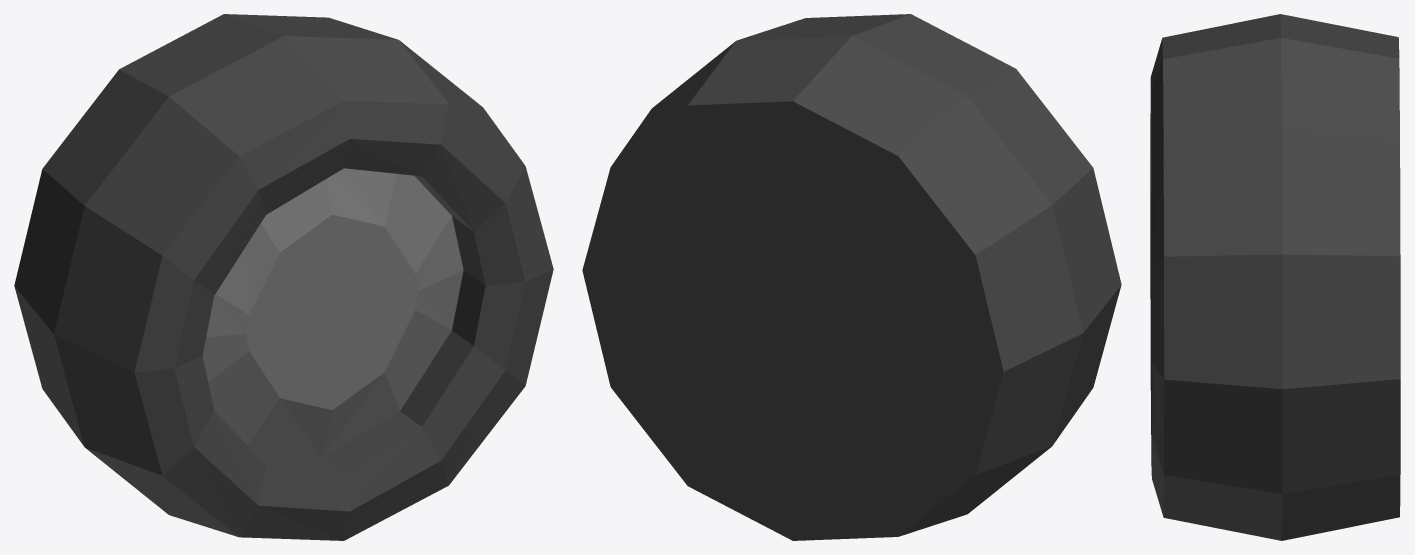
The model's file is car_Wheel.fbx.
The picture shows the model from 3 angles, left to right: view 1: azimuth 30°, elevation 25°; view 2: azimuth 150°, elevation 25°; view 3: azimuth 270°, elevation 25°; orthographic projection.
Parts seen in each view (by area): view 1: polySurface15; view 2: polySurface15; view 3: polySurface15.
Part boxes in pixels (x1=…): polySurface15: x1=14, y1=14, x2=553, y2=540; polySurface15: x1=582, y1=14, x2=1121, y2=540; polySurface15: x1=1150, y1=14, x2=1400, y2=540.
Size of the model in its own units: 242 by 242 by 115.
